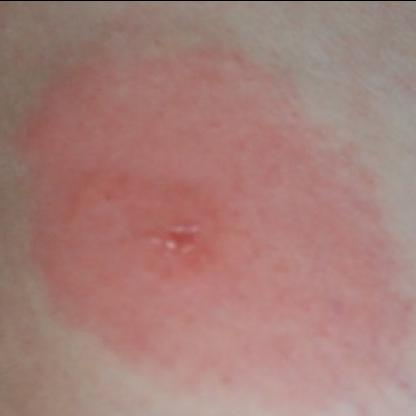Wasp: (55, 89, 327, 350)
